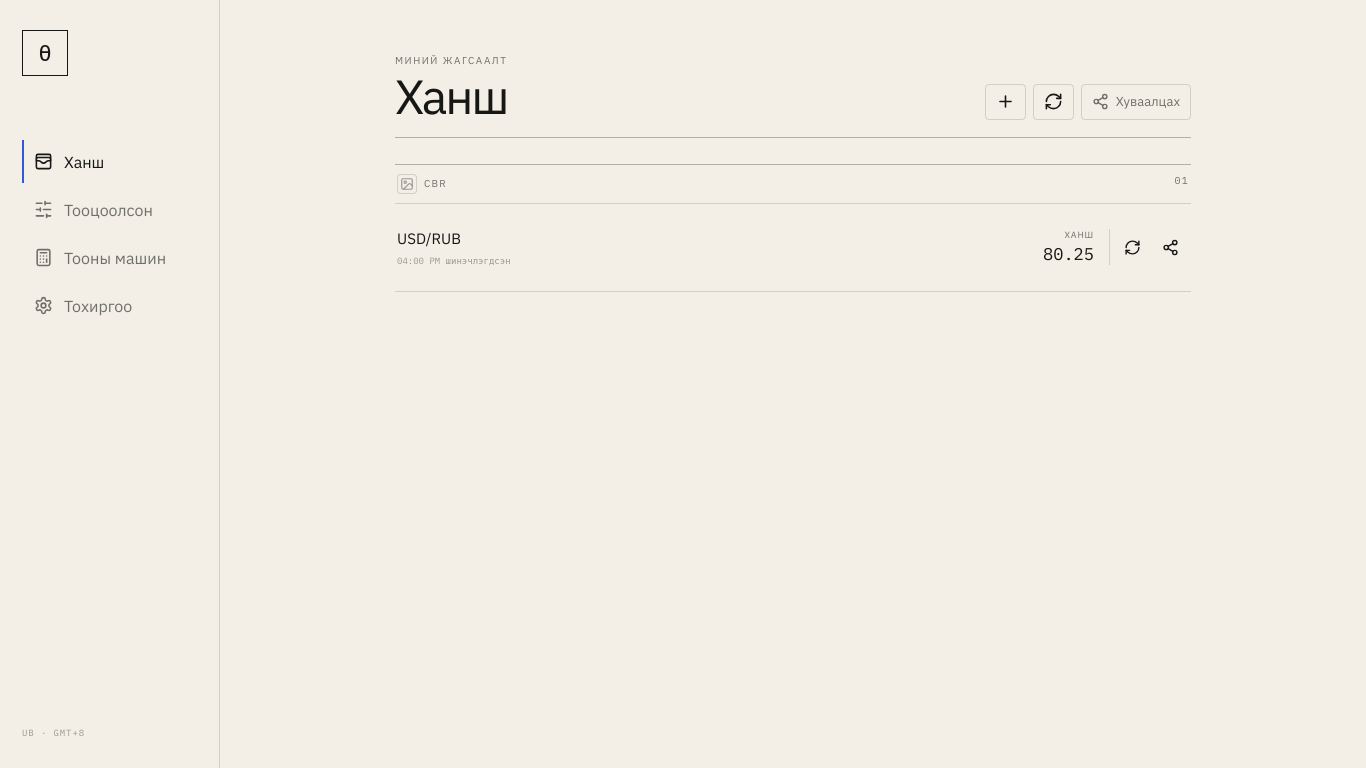
Test: App shell › enters multi-select and selects a held rate row
The image size is (1366, 768).
Press the mouse on the element showing "USD/RUB 04:00 PM шинэчлэгдсэн Ханш 80.25" at (793, 248), box [395, 204, 1191, 292]
Wait 500 ms
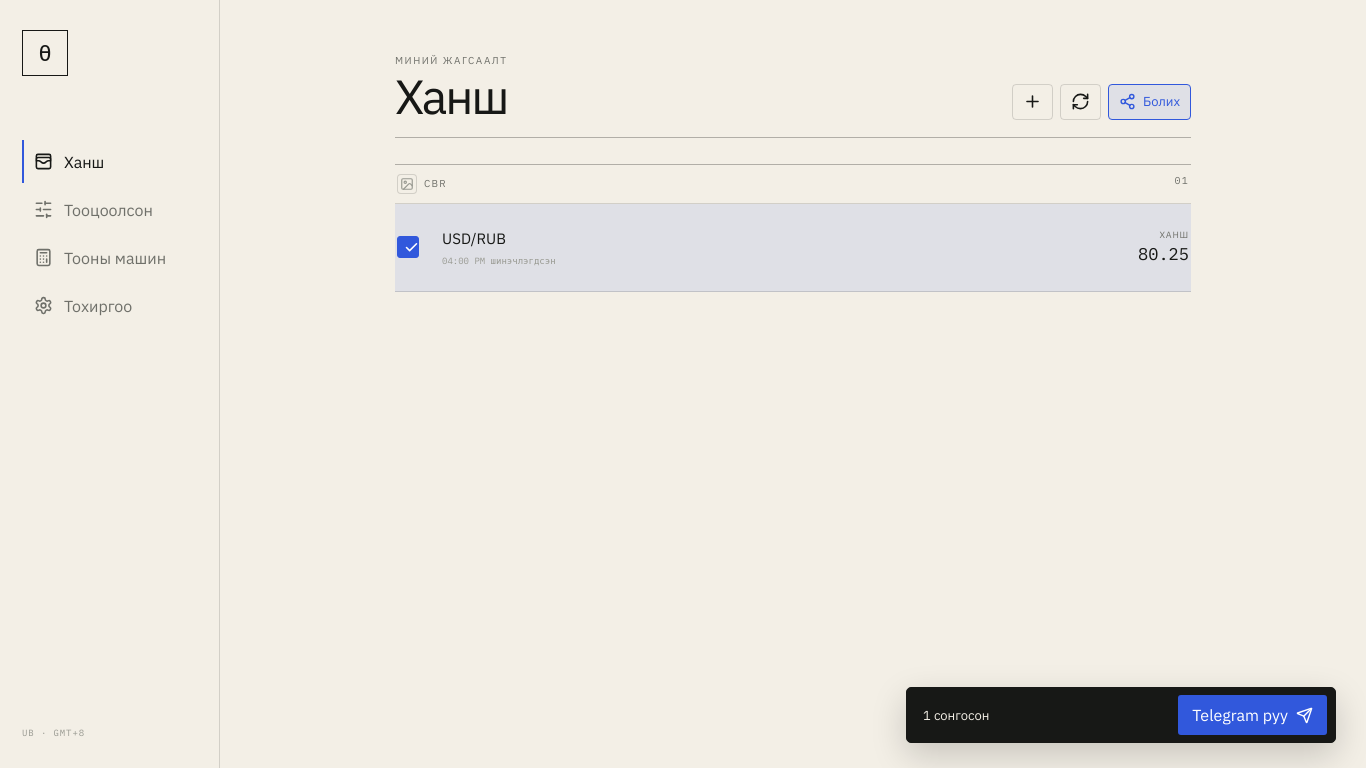
Expected: the text "1 сонгосон" is shown, [923, 706, 989, 724]
